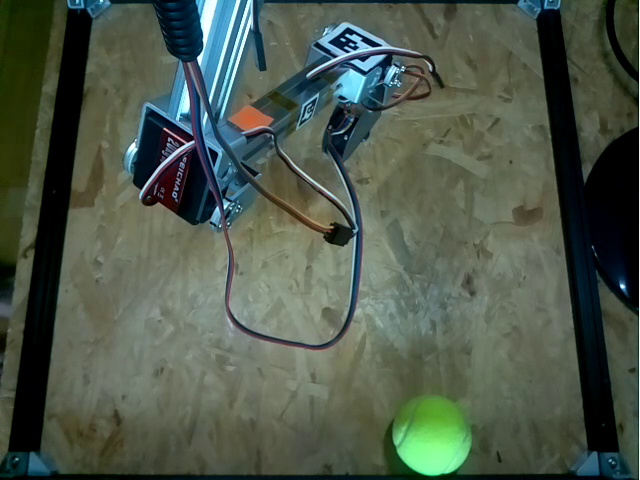tennis_ball: (393, 396, 473, 475)
